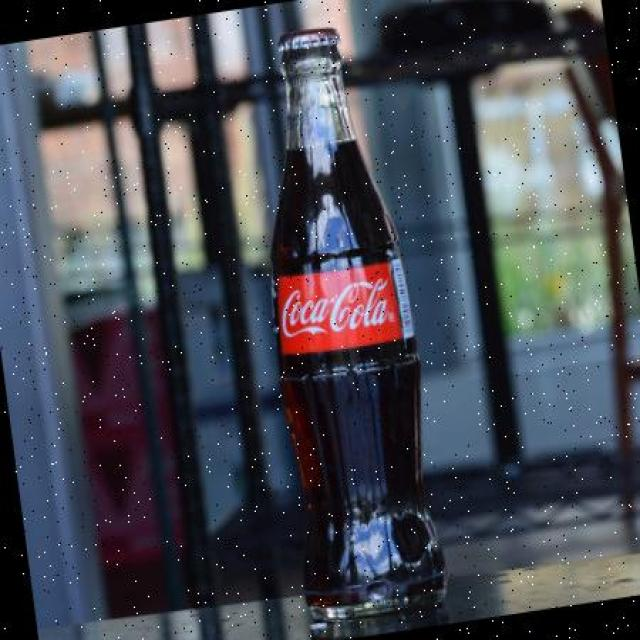coca-cola: (233, 8, 461, 632)
